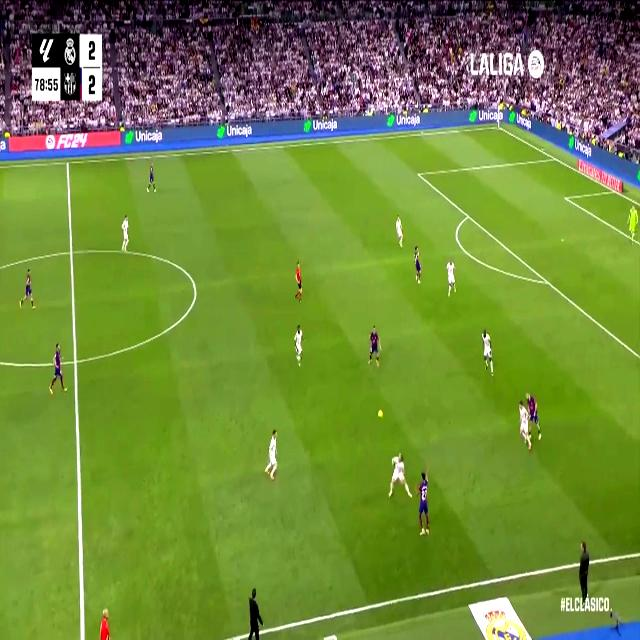bigarea_top_inner: (415, 166, 422, 182)
bigarea_top_outter: (550, 150, 558, 164)
bottom_arc_area_intersection: (542, 272, 551, 290)
corner: (494, 121, 502, 131)
halfcircle_bottom: (70, 346, 81, 375)
halfcircle_top: (65, 240, 77, 264)
midline_top_intersection: (64, 156, 72, 169)
smallarea_top_inner: (563, 191, 569, 203)
top_arc_area_intersection: (464, 208, 472, 222)
